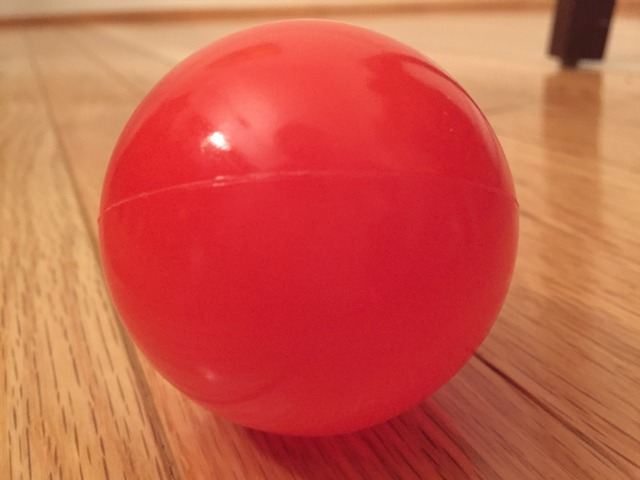Ball: (92, 21, 521, 430)
